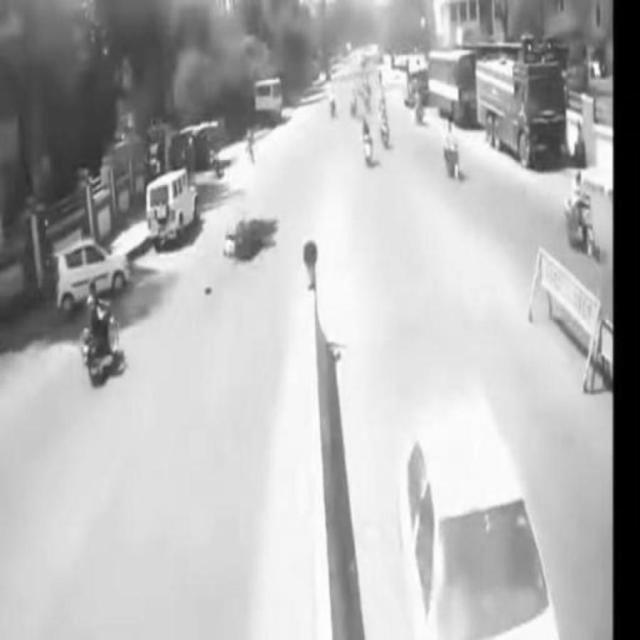vehicle: (398, 391, 558, 637), (52, 239, 133, 311), (81, 281, 121, 377), (147, 172, 199, 242), (564, 173, 605, 255)
